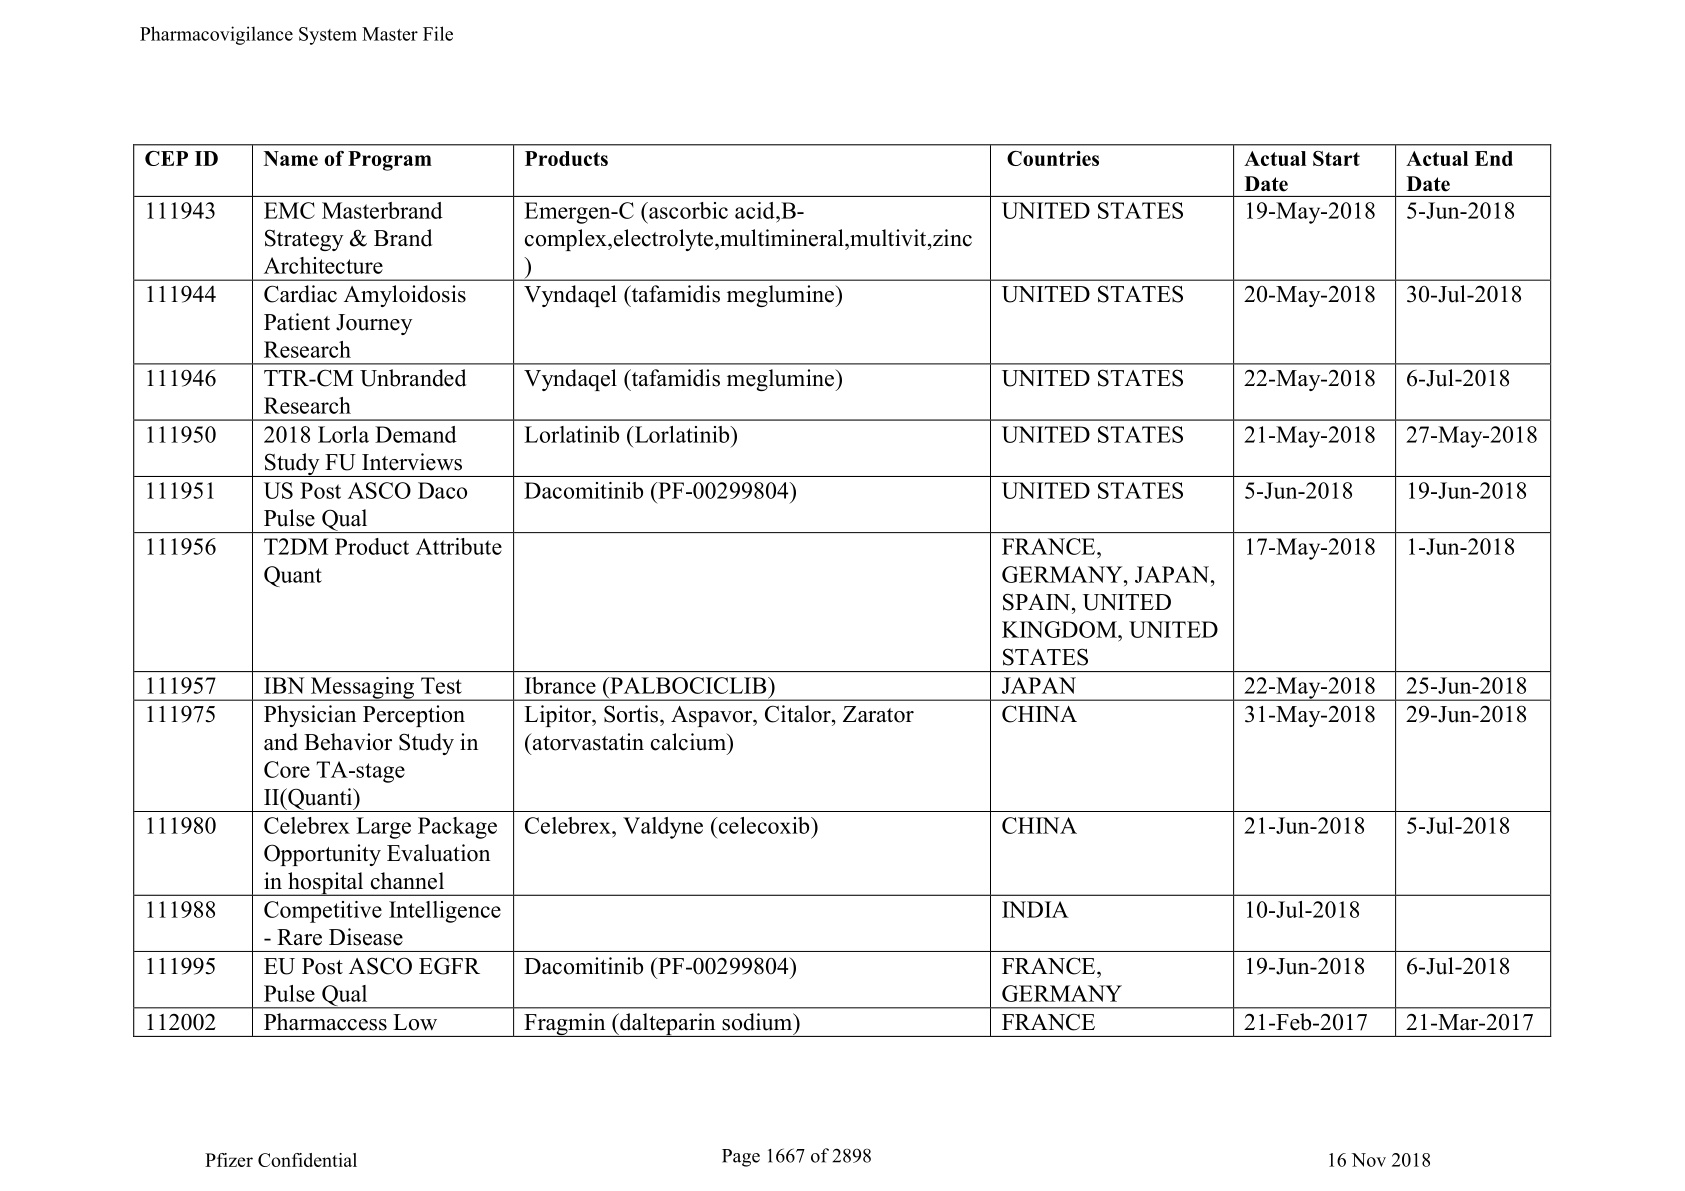full_lined: (131, 144, 1552, 1038)
